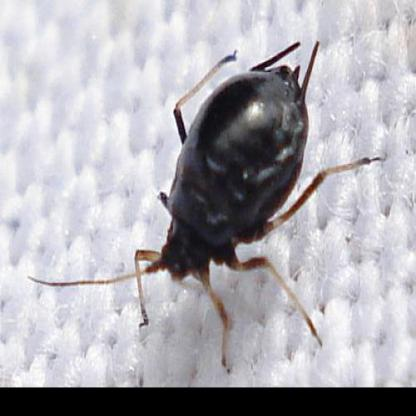aphid: (101, 35, 371, 354)
